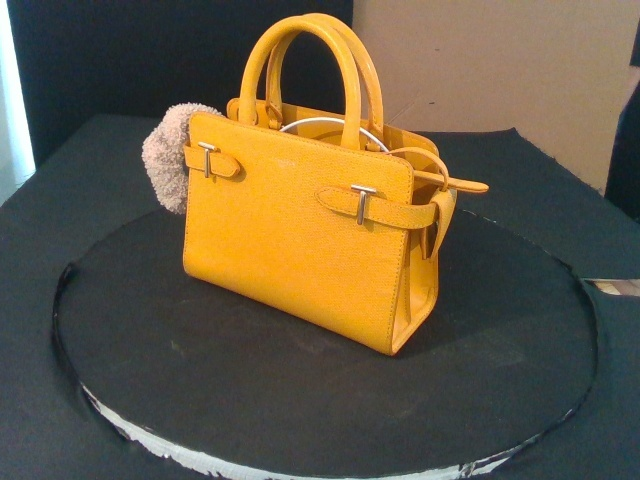bag: (182, 13, 438, 357)
